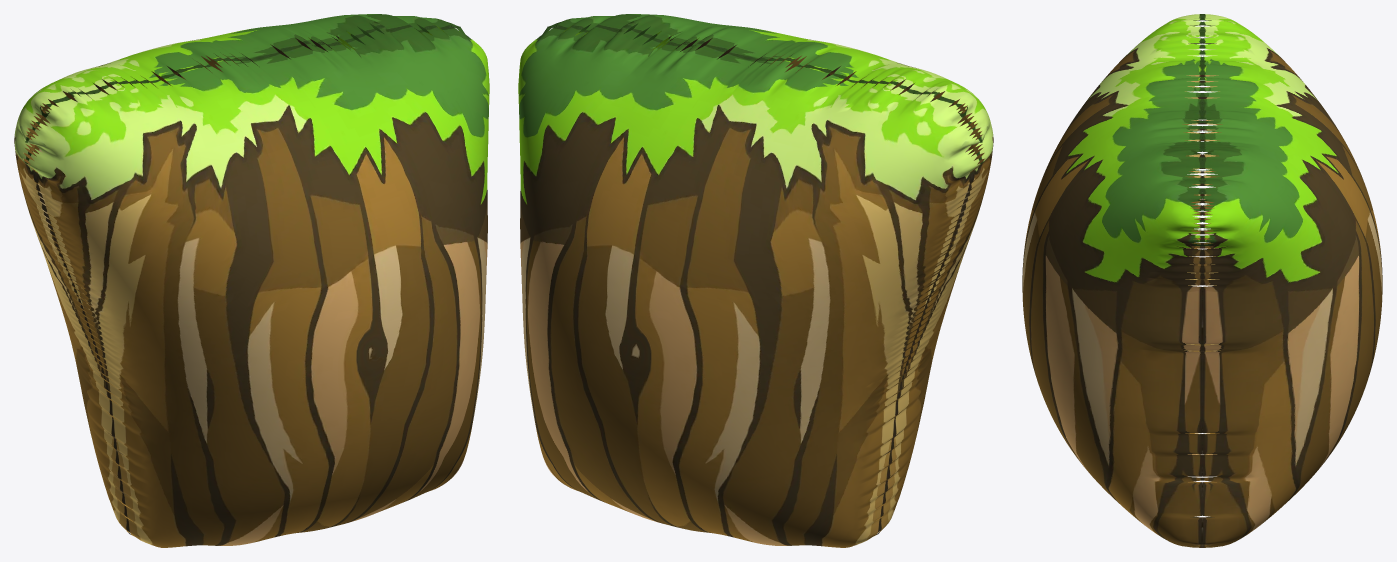
Rendered from cliff_section.glb.
3 renders of one model, left to right at view 1: azimuth 30°, elevation 25°; view 2: azimuth 150°, elevation 25°; view 3: azimuth 270°, elevation 25°, orthographic. The views are drawn at different scales.
Parts seen in each view (by area): view 1: cliff_section; view 2: cliff_section; view 3: cliff_section.
Boxes of the visible parts, x1=… form: cliff_section: x1=14, y1=14, x2=489, y2=547; cliff_section: x1=518, y1=14, x2=993, y2=547; cliff_section: x1=1022, y1=14, x2=1382, y2=547.
Bounding box in the file's own units: 0.988 × 0.9851 × 0.8208.
Materials: 1 (1 with a texture image).
